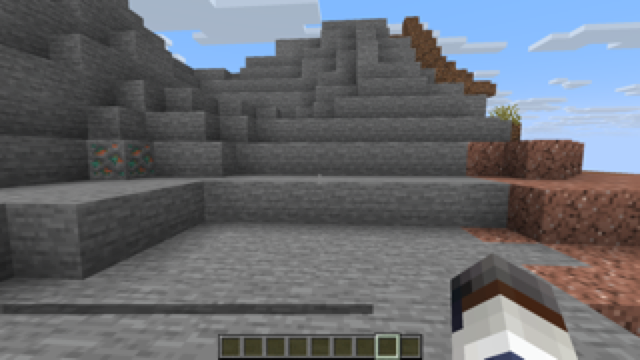copper: (90, 139, 154, 179)
